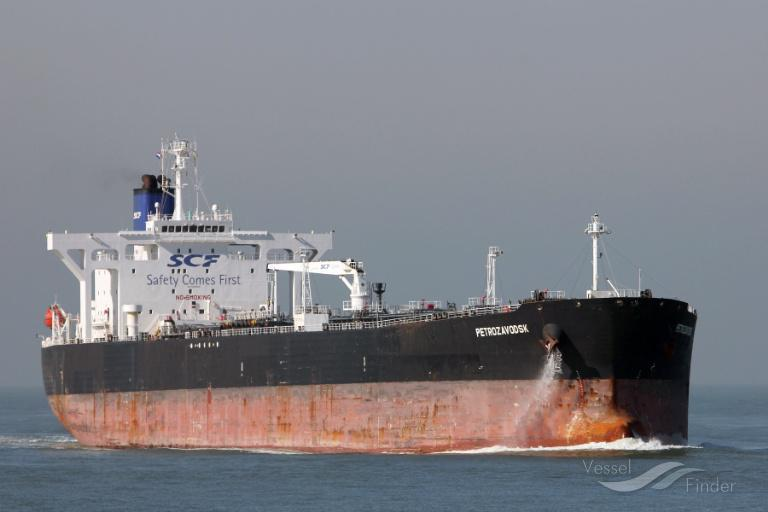OCR: (454, 316, 534, 340), (170, 250, 220, 273)
